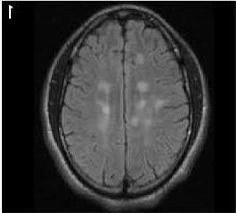Normal_Brain: (3, 2, 236, 213)
